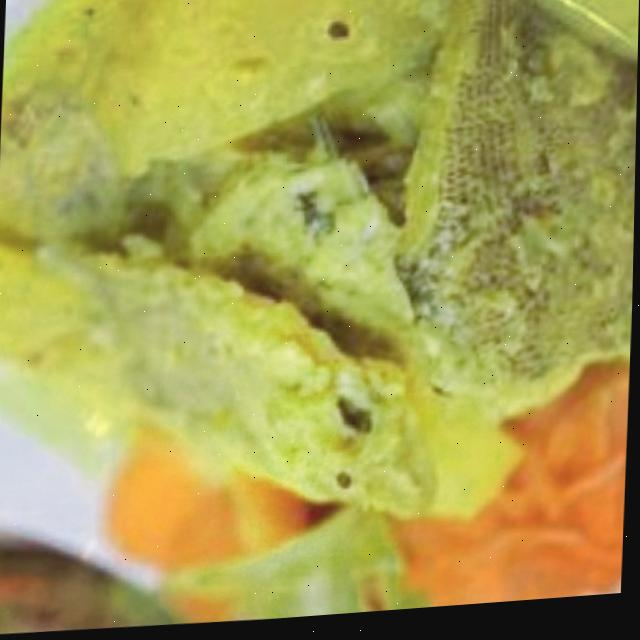熟制海鲜: (3, 0, 640, 615)
